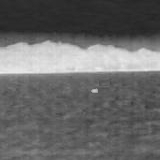Target: (90, 88, 99, 94)
